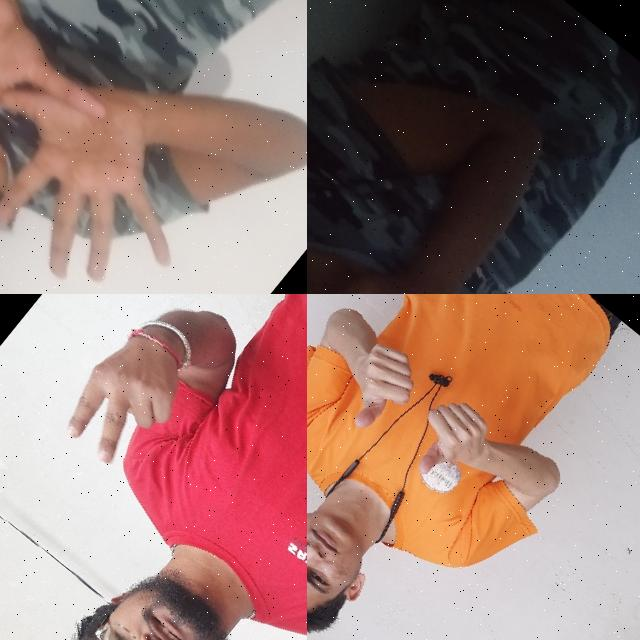Chin Flick: (307, 172, 497, 294)
Moutza: (0, 24, 240, 294), (0, 0, 141, 233)
Reversed Victory: (38, 294, 226, 490)
Thumbs Up: (389, 380, 504, 498), (322, 328, 434, 446)
